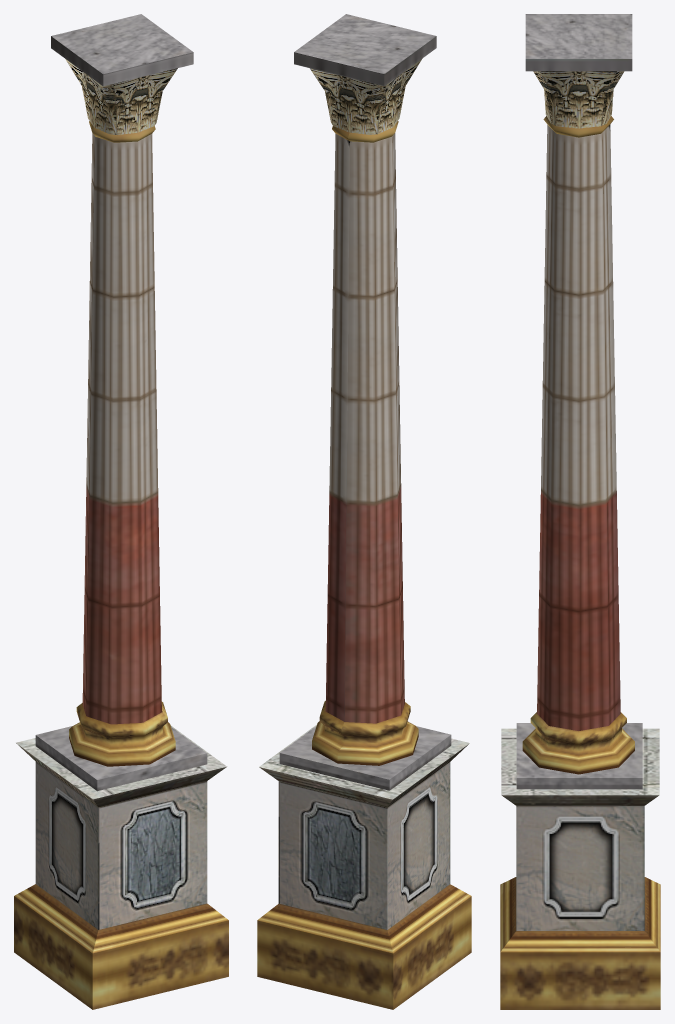
File: column_roman_d.dae
3 views of the same model, side by side, from view 1: azimuth 30°, elevation 25°; view 2: azimuth 150°, elevation 25°; view 3: azimuth 270°, elevation 25° (orthographic). The views are drawn at different scales.
Parts seen in each view (by area): view 1: rostrum.001; view 2: rostrum.001; view 3: rostrum.001.
Boxes of the visible parts, x1=… form: rostrum.001: x1=14, y1=14, x2=228, y2=1009; rostrum.001: x1=257, y1=14, x2=471, y2=1009; rostrum.001: x1=500, y1=14, x2=660, y2=1009.
Bounding box in the file's own units: 2.41 × 2.41 × 15.59.
